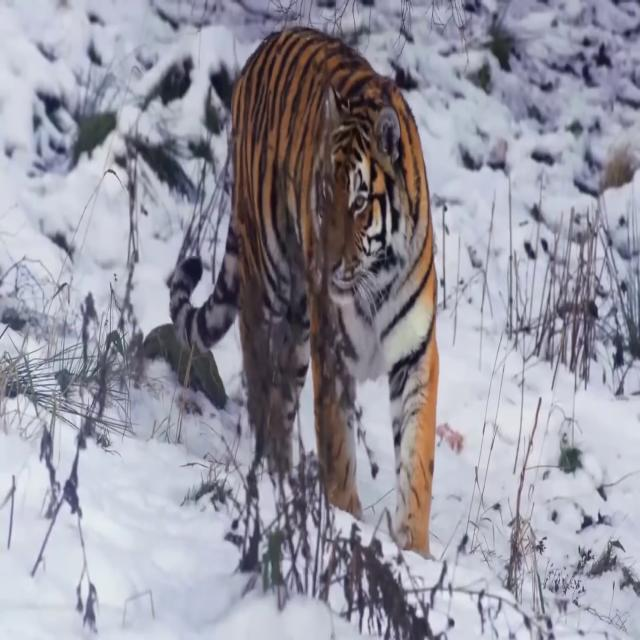tiger: (168, 24, 440, 554)
